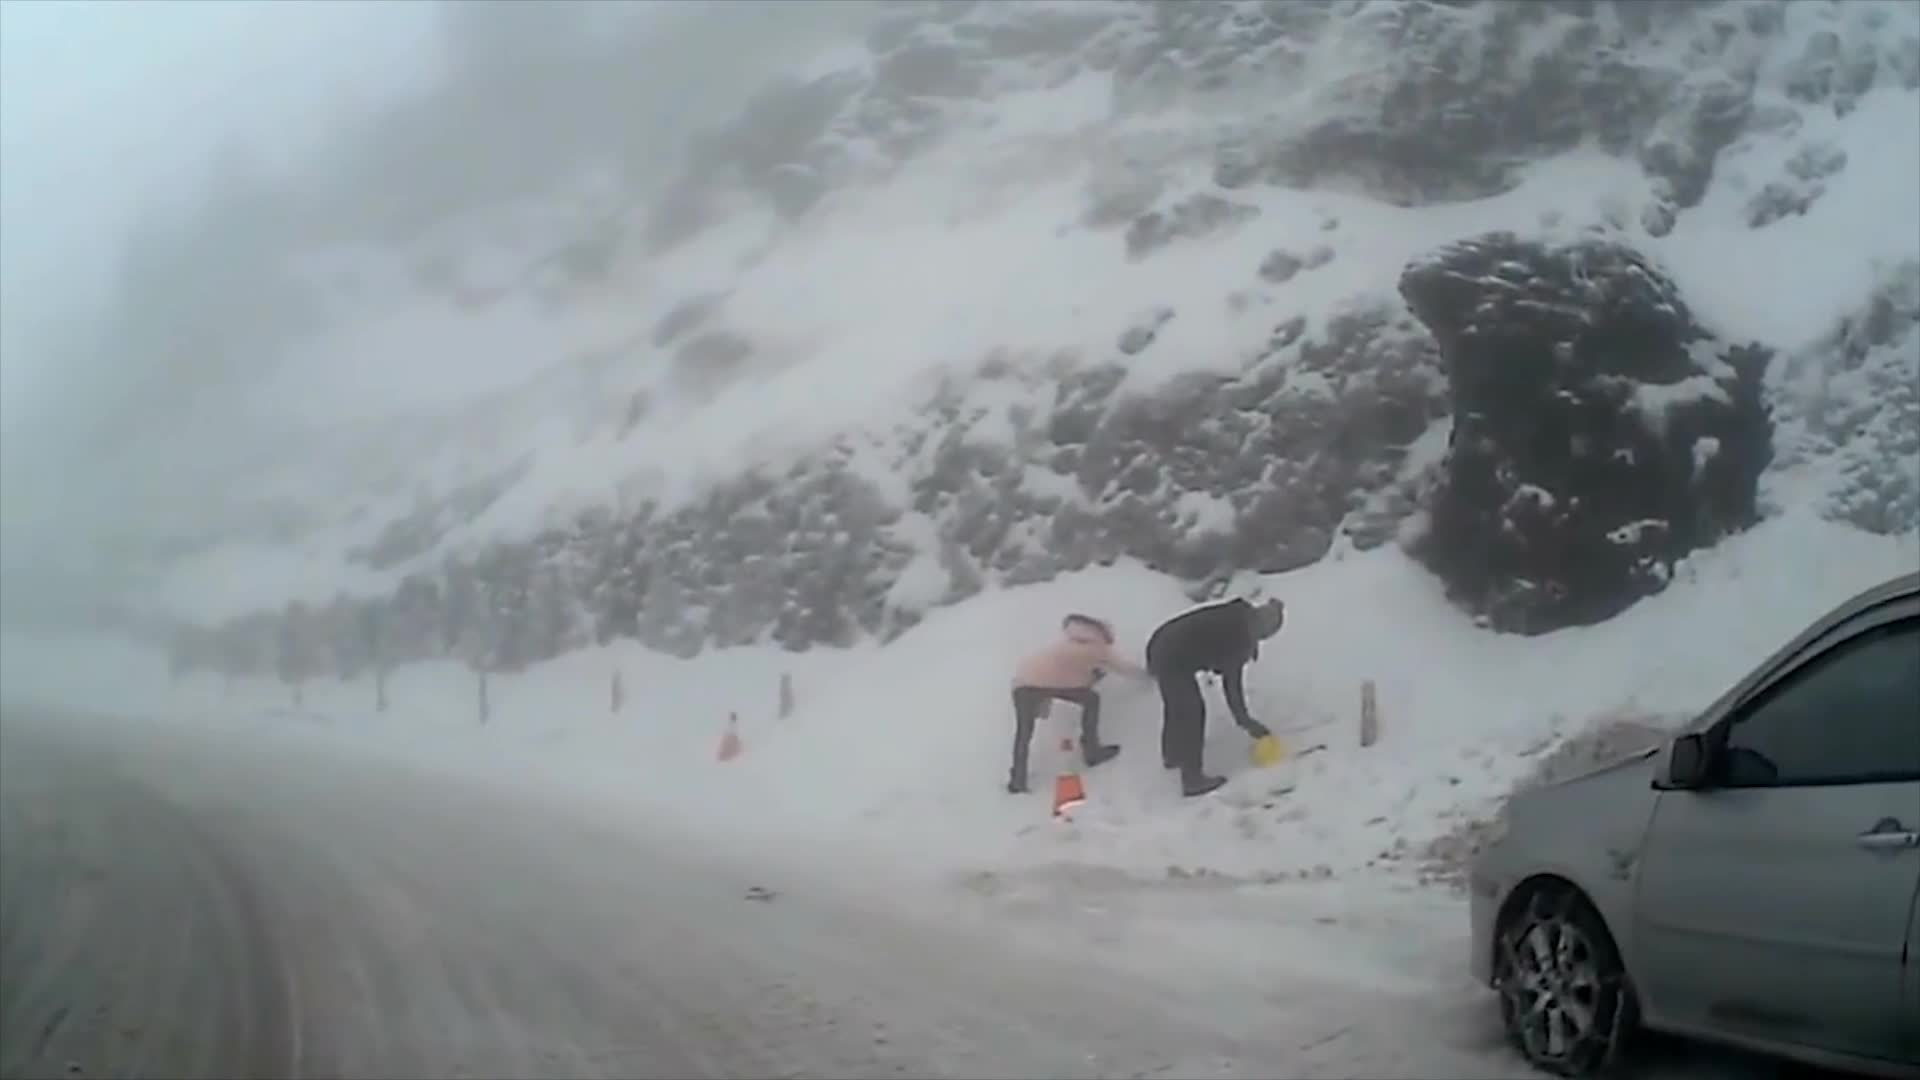pedestrian: (1146, 591, 1281, 797), (1002, 615, 1151, 792)
vehicle: (1468, 570, 1920, 1078)
